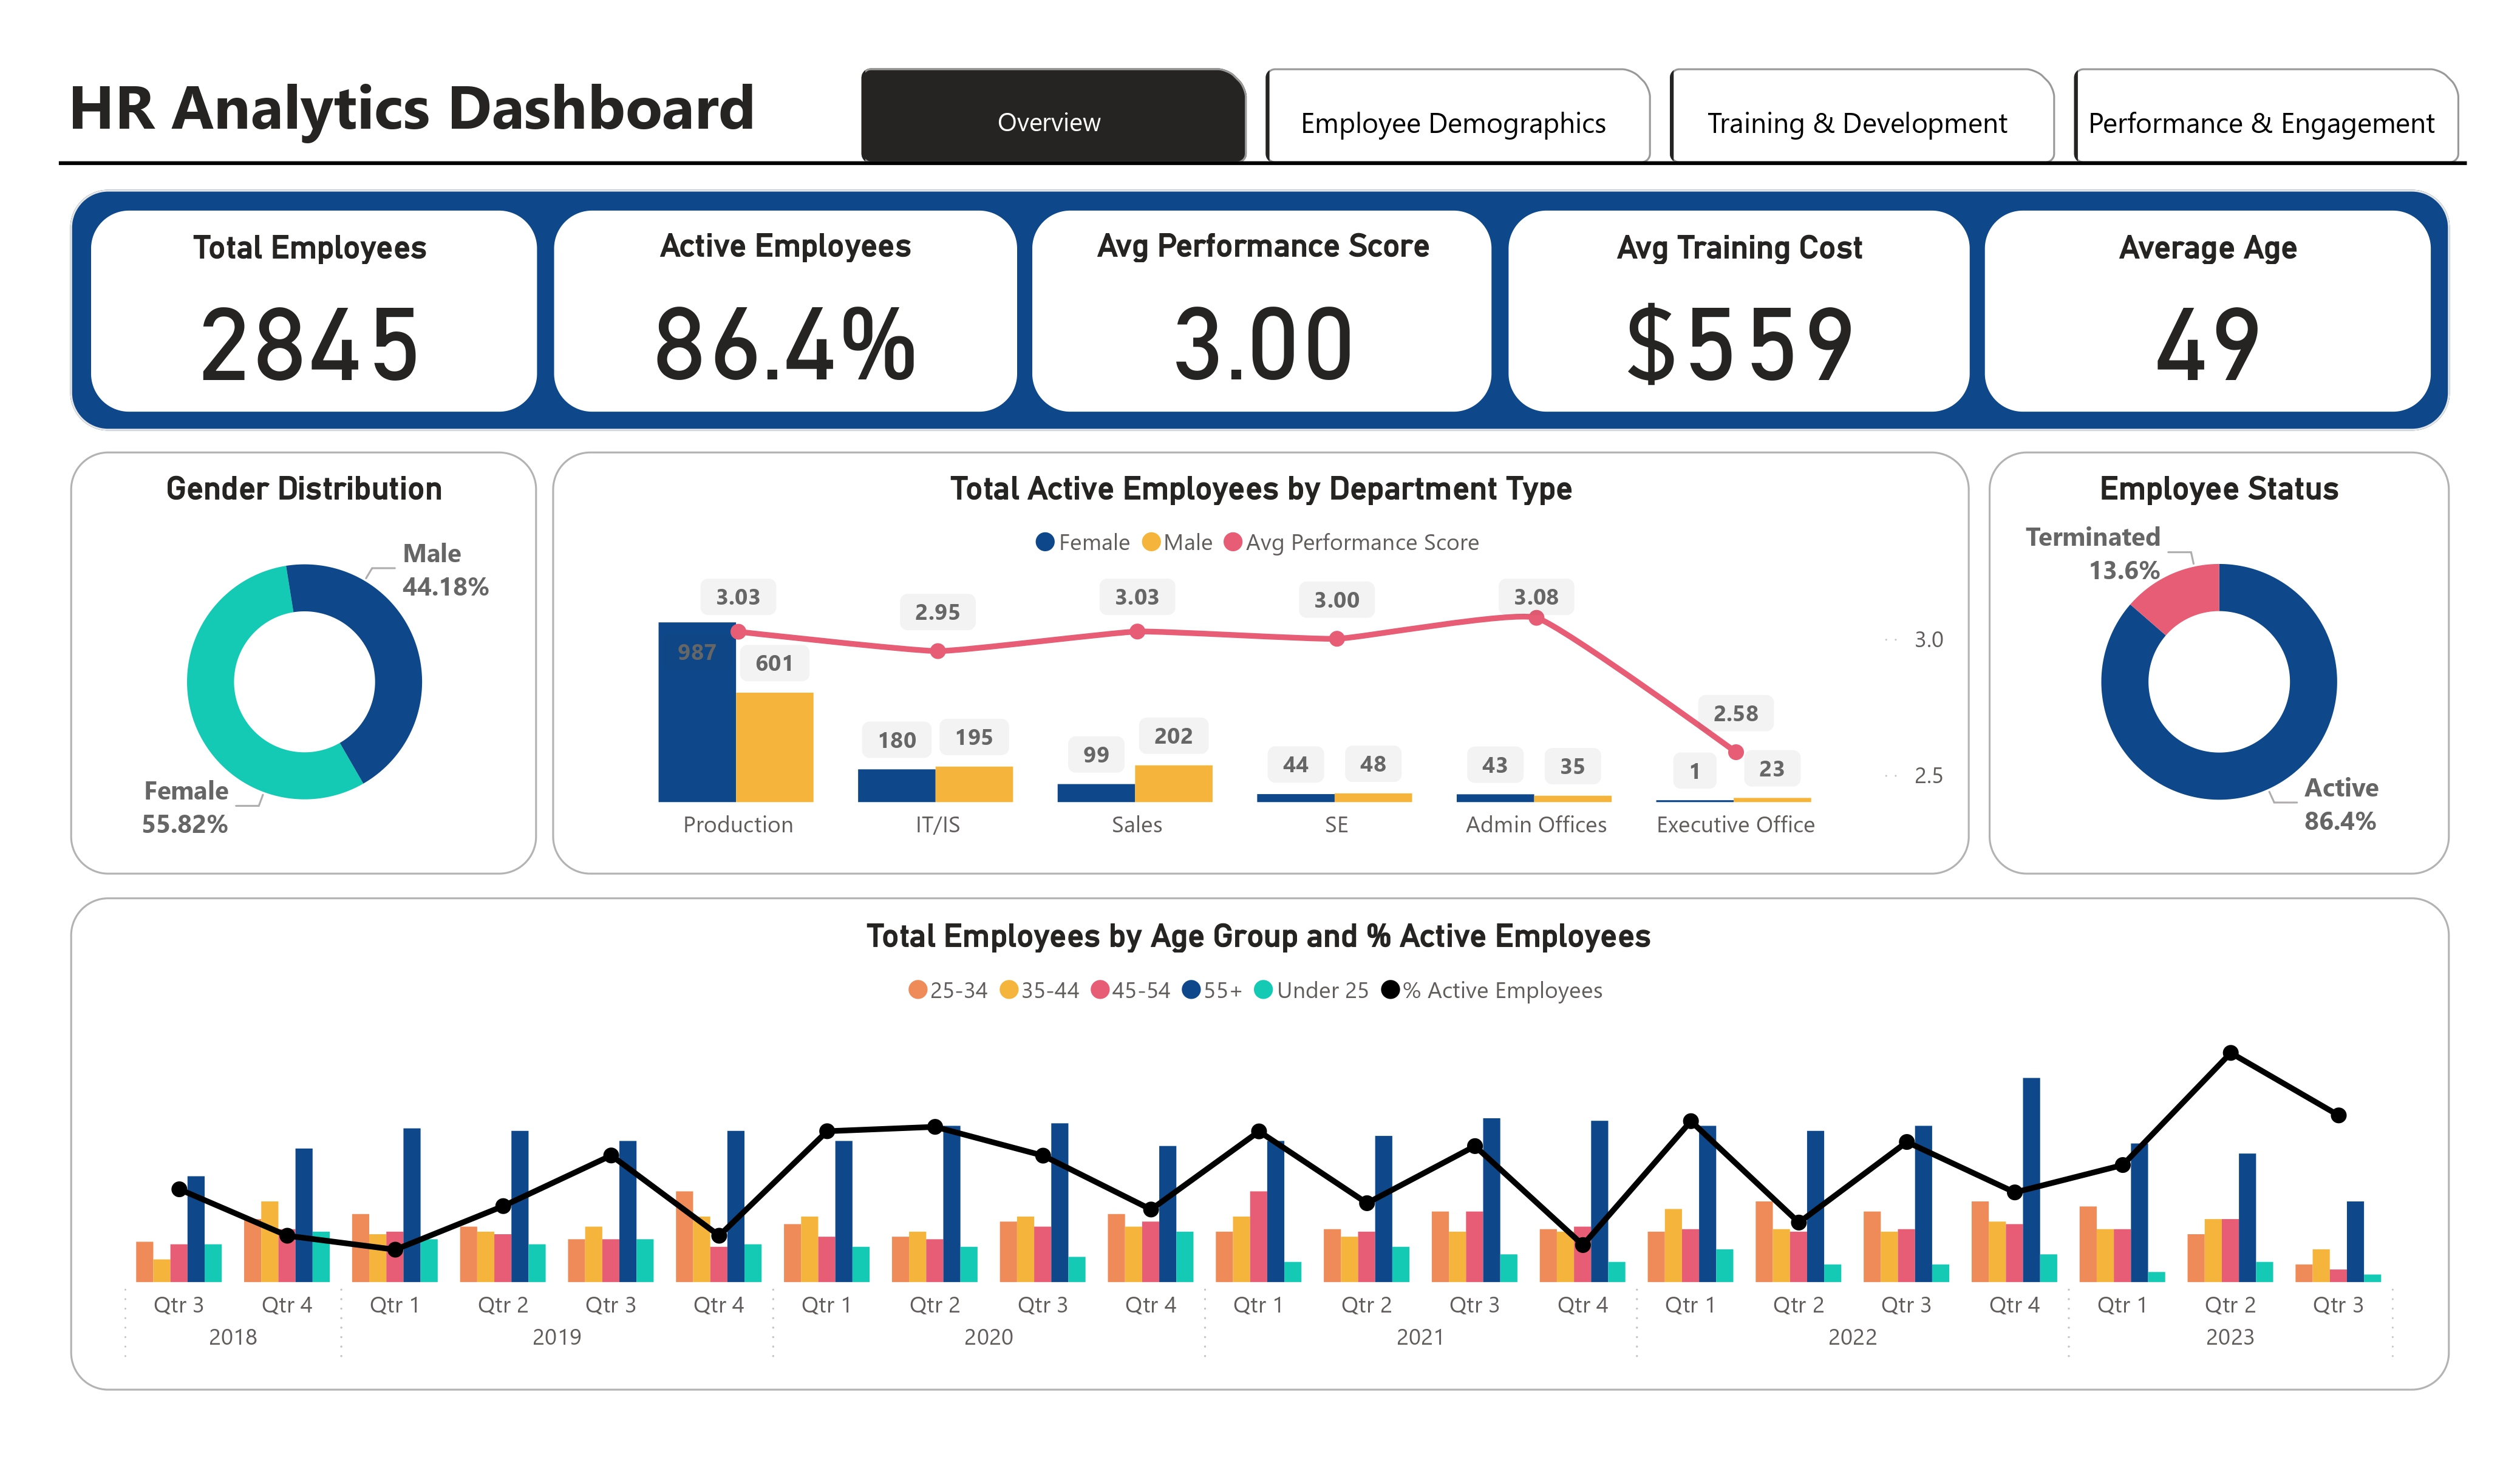

Layout of this report page (visuals, bound fields, positions):
{"tool":"powerbi","page":{"name":"Overview","canvas":[1280,720],"ordinal":0},"visuals":[{"type":"pageNavigator","box":[430,12.1,845,50],"z":0},{"type":"shape","box":[12.9,75.7,1254.3,127.1],"z":1000},{"type":"textbox","box":[7.1,4.3,407.1,58.6],"z":2000},{"type":"shape","box":[24.1,86.9,235.3,106.2],"z":3000},{"type":"card","title":"Total Employees","fields":{"Values":["CountNonNull(Cleaned_HR_Data_Analysis (2).Employee ID)"]},"box":[45,96,189,90],"z":4000},{"type":"shape","box":[7.1,0,1268.6,124.3],"z":5000},{"type":"shape","box":[520,86.9,242.5,106.2],"z":6000},{"type":"shape","box":[267.8,86.9,243.7,106.2],"z":7000},{"type":"shape","box":[1022,87,235,106],"z":8000},{"type":"shape","box":[771.4,87.1,242.9,105.7],"z":9000},{"type":"card","title":"Active Employees","fields":{"Values":["Cleaned_HR_Data_Analysis (2).% Active Employees"]},"box":[295.6,95.3,188.2,90.5],"z":10000},{"type":"card","title":"Avg Performance Score","fields":{"Values":["Cleaned_HR_Data_Analysis (2).Avg_Performance_Score"]},"box":[547.7,95.3,188.2,90.5],"z":11000},{"type":"card","title":"Avg Training Cost","fields":{"Values":["Avg(Cleaned_HR_Data_Analysis (2).Training Cost)"]},"box":[798.6,95.7,188.6,90],"z":12000},{"type":"shape","box":[1024.3,214.3,242.9,222.9],"z":13000},{"type":"shape","box":[12.9,214.3,245.7,222.9],"z":13500},{"type":"card","title":"Average Age","fields":{"Values":["Avg(Cleaned_HR_Data_Analysis (2).Age)"]},"box":[1046,96,188,90],"z":14000},{"type":"donutChart","title":"Gender Distribution","fields":{"Category":["Cleaned_HR_Data_Analysis (2).GenderCode"],"Y":["CountNonNull(Cleaned_HR_Data_Analysis (2).Employee ID)"]},"box":[22.9,222.9,227.1,205.7],"z":15000},{"type":"shape","box":[12.9,448.6,1254.3,260],"z":16000},{"type":"shape","box":[267.1,214.3,747.1,222.9],"z":17000},{"type":"lineClusteredColumnComboChart","title":"Total Active Employees by Department Type","fields":{"Category":["Cleaned_HR_Data_Analysis (2).DepartmentType"],"Y":["CountNonNull(Cleaned_HR_Data_Analysis (2).Employee ID)"],"Y2":["Avg(Cleaned_HR_Data_Analysis (2).Performance_Score_Numeric)"],"Series":["Cleaned_HR_Data_Analysis (2).GenderCode"]},"box":[275.7,222.9,730,205.7],"z":18000},{"type":"lineClusteredColumnComboChart","title":"Total Employees by Age Group and % Active Employees ","fields":{"Y":["CountNonNull(Cleaned_HR_Data_Analysis (2).Employee ID)"],"Category":["Cleaned_HR_Data_Analysis (2).StartDate.Variation.Date Hierarchy.Year","Cleaned_HR_Data_Analysis (2).StartDate.Variation.Date Hierarchy.Quarter"],"Y2":["Cleaned_HR_Data_Analysis (2).% Active Employees"],"Series":["Cleaned_HR_Data_Analysis (2).Age Range"]},"box":[20,458.6,1238.6,244.3],"z":19000},{"type":"donutChart","title":"Employee Status","fields":{"Y":["CountNonNull(Cleaned_HR_Data_Analysis (2).EmployeeStatus)"],"Category":["Cleaned_HR_Data_Analysis (2).EmployeeStatus"]},"box":[1031.4,222.9,228.6,205.7],"z":21000}]}

Visuals, with their boxes on the page's 1280x720 design canvas (x1, y1, x2, y2). These are canvas units, not pixel positions in the 2520x1457 screenshot, which may show the page scaled, cropped or inside an application window:
pageNavigator: crop(430, 12, 1275, 62)
shape: crop(13, 76, 1267, 203)
textbox: crop(7, 4, 414, 63)
shape: crop(24, 87, 259, 193)
"Total Employees" card: crop(45, 96, 234, 186)
shape: crop(7, 0, 1276, 124)
shape: crop(520, 87, 762, 193)
shape: crop(268, 87, 512, 193)
shape: crop(1022, 87, 1257, 193)
shape: crop(771, 87, 1014, 193)
"Active Employees" card: crop(296, 95, 484, 186)
"Avg Performance Score" card: crop(548, 95, 736, 186)
"Avg Training Cost" card: crop(799, 96, 987, 186)
shape: crop(1024, 214, 1267, 437)
shape: crop(13, 214, 259, 437)
"Average Age" card: crop(1046, 96, 1234, 186)
"Gender Distribution" donutChart: crop(23, 223, 250, 429)
shape: crop(13, 449, 1267, 709)
shape: crop(267, 214, 1014, 437)
"Total Active Employees by Department Type" lineClusteredColumnComboChart: crop(276, 223, 1006, 429)
"Total Employees by Age Group and % Active Employees " lineClusteredColumnComboChart: crop(20, 459, 1259, 703)
"Employee Status" donutChart: crop(1031, 223, 1260, 429)
